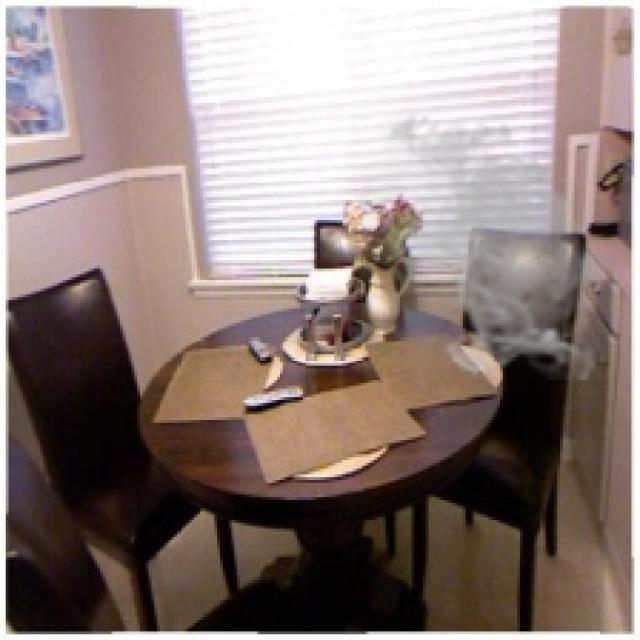smoke: (360, 106, 609, 380)
